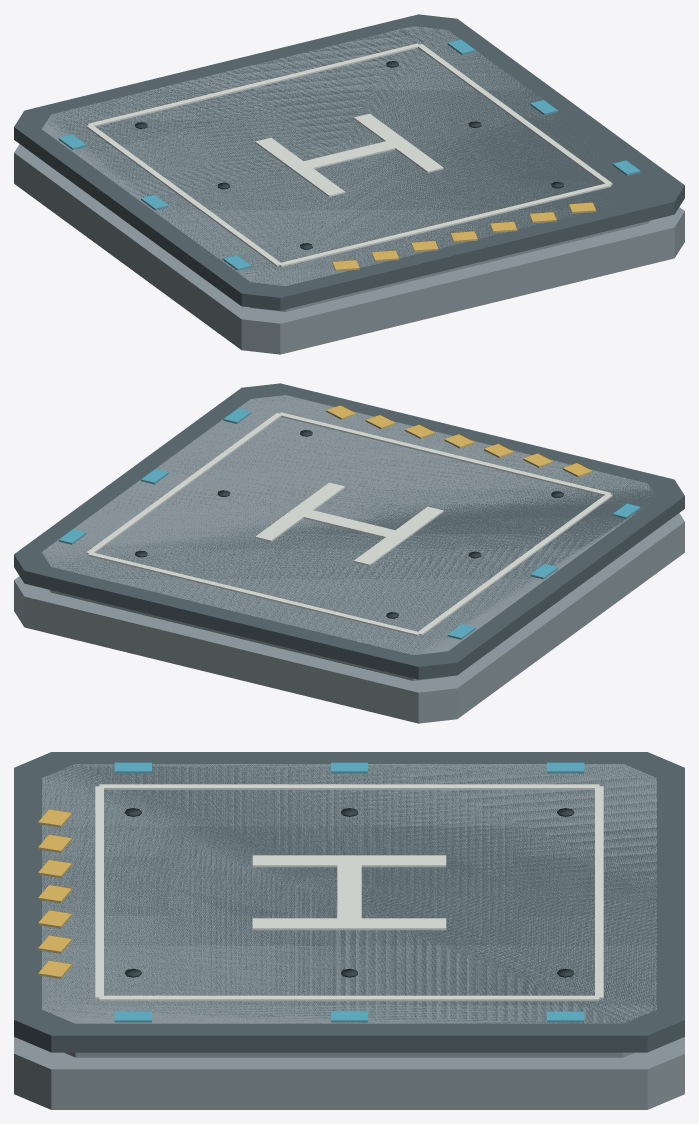
File: MOD_HeliDeck.fbx
The picture shows the model from 3 angles, top to bottom: view 1: azimuth 30°, elevation 25°; view 2: azimuth 150°, elevation 25°; view 3: azimuth 270°, elevation 25°; orthographic projection. The views are drawn at different scales.
Visible parts, largest first — view 1: FlightDeck, AviationServiceHull, Foundation, LandingBoundary.001, LandingBoundary.003, LandingBoundary, LandingBoundary.002, HLeg, HLeg.001, HCrossbar; view 2: AviationServiceHull, FlightDeck, Foundation, LandingBoundary.003, LandingBoundary.001, LandingBoundary, LandingBoundary.002, HLeg, HLeg.001, HCrossbar; view 3: FlightDeck, AviationServiceHull, Foundation, LandingBoundary.002, LandingBoundary, HLeg.001, HLeg, LandingBoundary.001, LandingBoundary.003, HCrossbar.
Part boxes in pixels (box(x1,y1,x2,y2)): FlightDeck: box(14, 14, 684, 310); AviationServiceHull: box(42, 26, 649, 311); Foundation: box(14, 144, 684, 354); LandingBoundary.001: box(279, 183, 611, 267); LandingBoundary.003: box(87, 43, 420, 126); LandingBoundary: box(86, 125, 281, 266); LandingBoundary.002: box(416, 44, 612, 184); HLeg: box(255, 137, 345, 196); HLeg.001: box(353, 113, 443, 172); HCrossbar: box(296, 140, 402, 169); AviationServiceHull: box(42, 395, 655, 680); FlightDeck: box(14, 383, 684, 679); Foundation: box(14, 513, 684, 723); LandingBoundary.003: box(87, 552, 419, 636); LandingBoundary.001: box(278, 412, 611, 495); LandingBoundary: box(417, 493, 612, 635); LandingBoundary.002: box(86, 413, 282, 553); HLeg: box(353, 506, 443, 565); HLeg.001: box(255, 482, 345, 541); HCrossbar: box(299, 508, 395, 537); FlightDeck: box(14, 752, 684, 1052); AviationServiceHull: box(42, 764, 656, 1057); Foundation: box(14, 1037, 684, 1109); LandingBoundary.002: box(99, 995, 599, 1001); LandingBoundary: box(99, 784, 599, 789); HLeg.001: box(252, 918, 446, 930); HLeg: box(252, 855, 446, 867); LandingBoundary.001: box(95, 786, 103, 999); LandingBoundary.003: box(595, 786, 603, 999); HCrossbar: box(337, 860, 361, 918).
Size of the model in its own units: 180 by 22.7 by 180.
